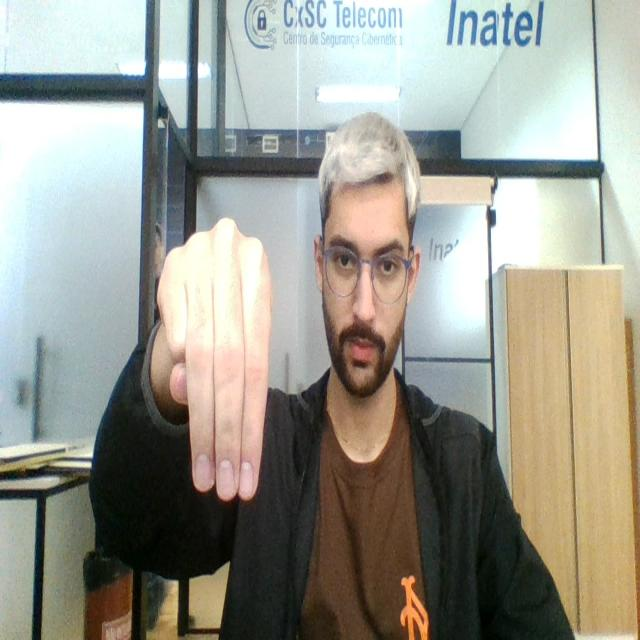M: (157, 210, 274, 512)
